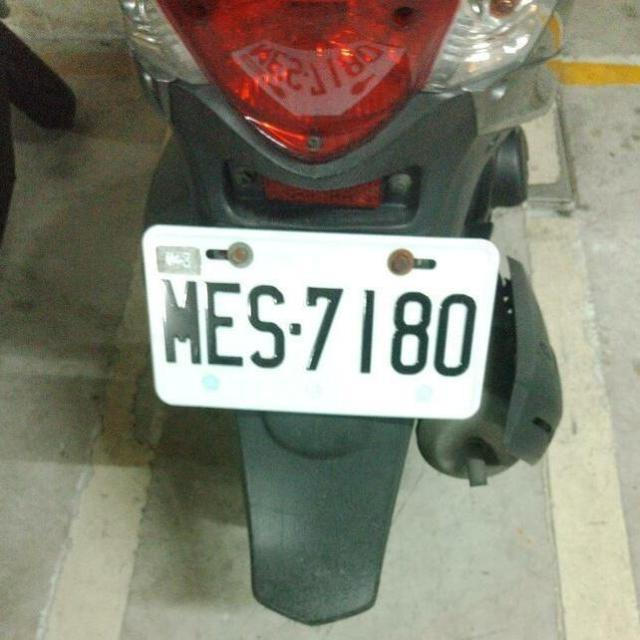W: (130, 207, 504, 434)
